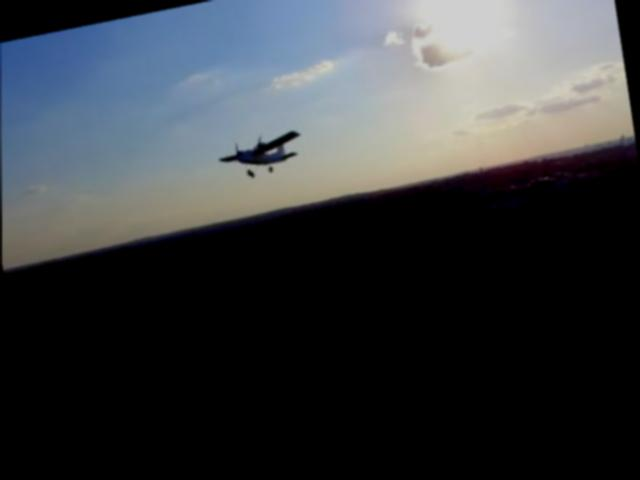uav: (220, 130, 306, 181)
